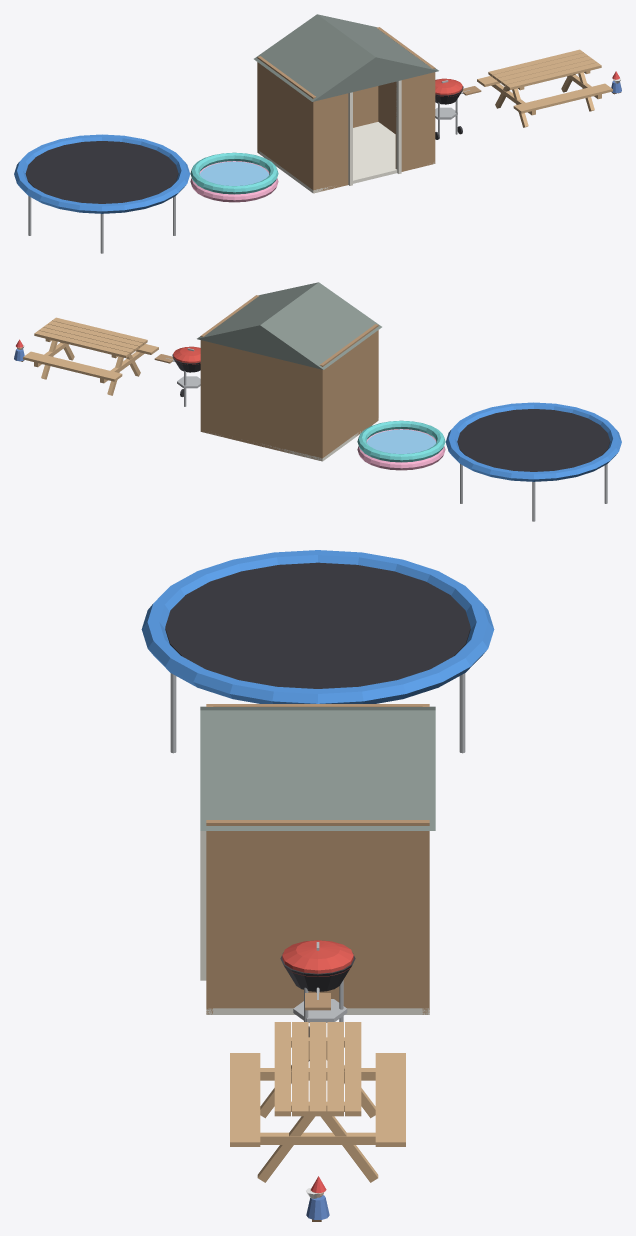
File: backyard_props.glb
3 renders of one model, top to bottom at view 1: azimuth 30°, elevation 25°; view 2: azimuth 150°, elevation 25°; view 3: azimuth 270°, elevation 25°, orthographic. The views are drawn at different scales.
Visible parts, largest first — view 1: SM_Backyard_Shed, SM_Backyard_Trampoline, SM_Backyard_PicnicTable, SM_Backyard_KiddiePool, SM_Backyard_Grill; view 2: SM_Backyard_Shed, SM_Backyard_Trampoline, SM_Backyard_PicnicTable, SM_Backyard_KiddiePool, SM_Backyard_Grill; view 3: SM_Backyard_Shed, SM_Backyard_Trampoline, SM_Backyard_PicnicTable, SM_Backyard_Grill.
Boxes of the visible parts, x1,y1,x2,y2 form: SM_Backyard_Shed: [254, 14, 438, 193]; SM_Backyard_Trampoline: [14, 134, 190, 253]; SM_Backyard_PicnicTable: [477, 49, 612, 127]; SM_Backyard_KiddiePool: [190, 152, 278, 202]; SM_Backyard_Grill: [435, 78, 481, 139]; SM_Backyard_Shed: [197, 282, 381, 461]; SM_Backyard_Trampoline: [445, 402, 621, 521]; SM_Backyard_PicnicTable: [23, 317, 158, 395]; SM_Backyard_KiddiePool: [357, 420, 445, 470]; SM_Backyard_Grill: [154, 346, 200, 406]; SM_Backyard_Shed: [200, 704, 435, 1014]; SM_Backyard_Trampoline: [141, 550, 494, 753]; SM_Backyard_PicnicTable: [230, 1022, 405, 1182]; SM_Backyard_Grill: [280, 940, 355, 1061].
Bounding box in the file's own units: 11.7 × 2.3 × 3.
